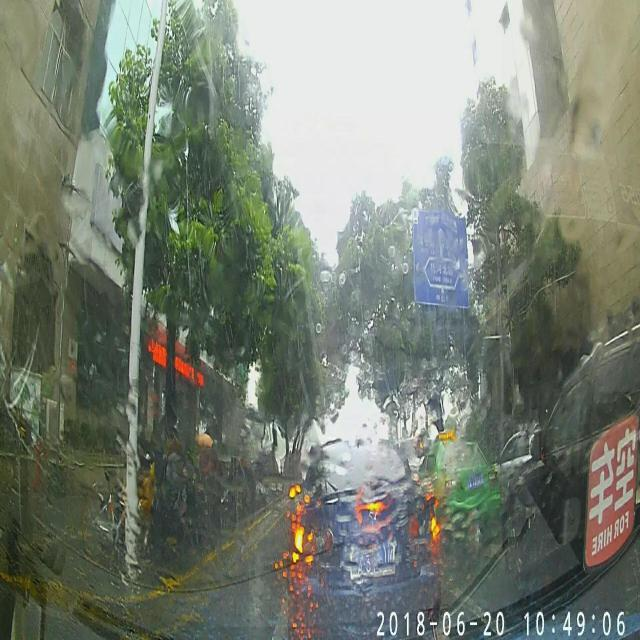car: (506, 326, 638, 587), (284, 442, 441, 630), (414, 429, 496, 551)
